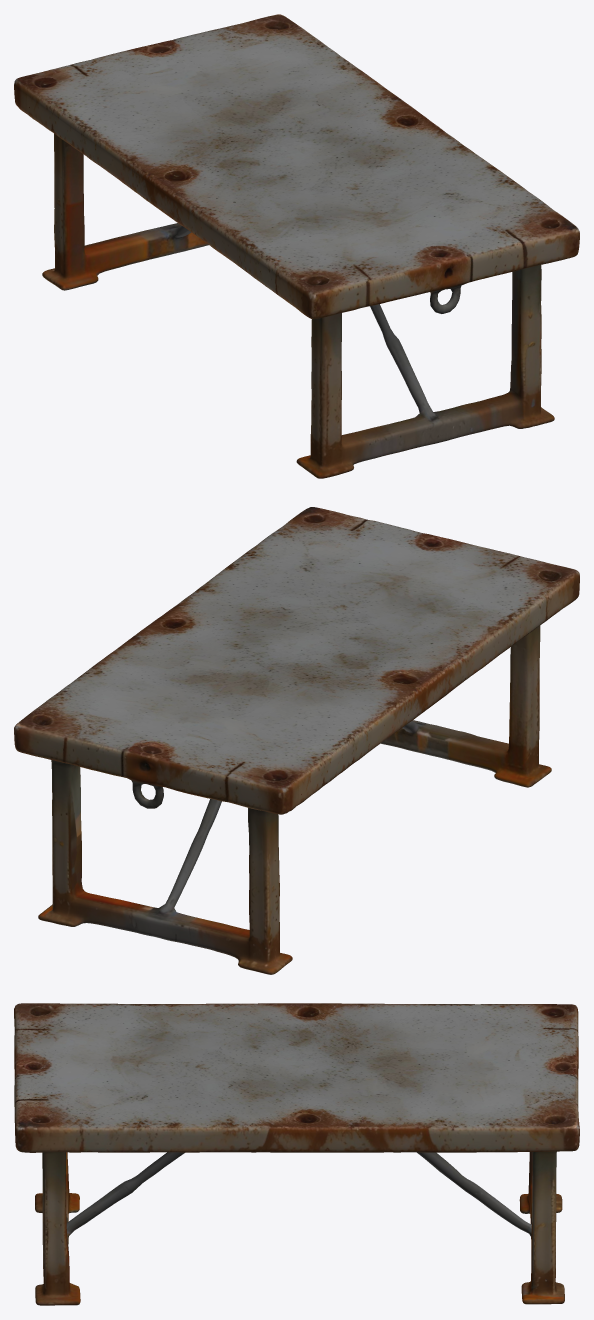
Rendered from MetalTableModel.fbx.
The picture shows the model from 3 angles, top to bottom: view 1: azimuth 30°, elevation 25°; view 2: azimuth 150°, elevation 25°; view 3: azimuth 270°, elevation 25°; orthographic projection. The views are drawn at different scales.
Visible parts, largest first — view 1: tripo_node_35d0a580; view 2: tripo_node_35d0a580; view 3: tripo_node_35d0a580.
Boxes of the visible parts, left/top/right/bottom form: tripo_node_35d0a580: left=14, top=14, right=579, bottom=478; tripo_node_35d0a580: left=14, top=507, right=579, bottom=974; tripo_node_35d0a580: left=14, top=1003, right=579, bottom=1305.
Size of the model in its own units: 52.65 by 36.76 by 99.97.
1 material, 1 textured.
